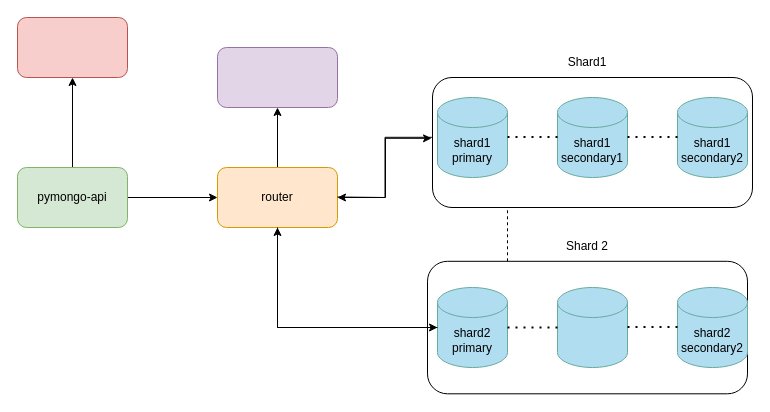
Image size: 770x412. Some labels were removed from this diagram. Here are the shapes that lost their labels. From the top down, the box of each, then its label:
(16, 16, 128, 78): redis
(216, 46, 338, 108): config server
(556, 286, 628, 368): shard2 secondary1
